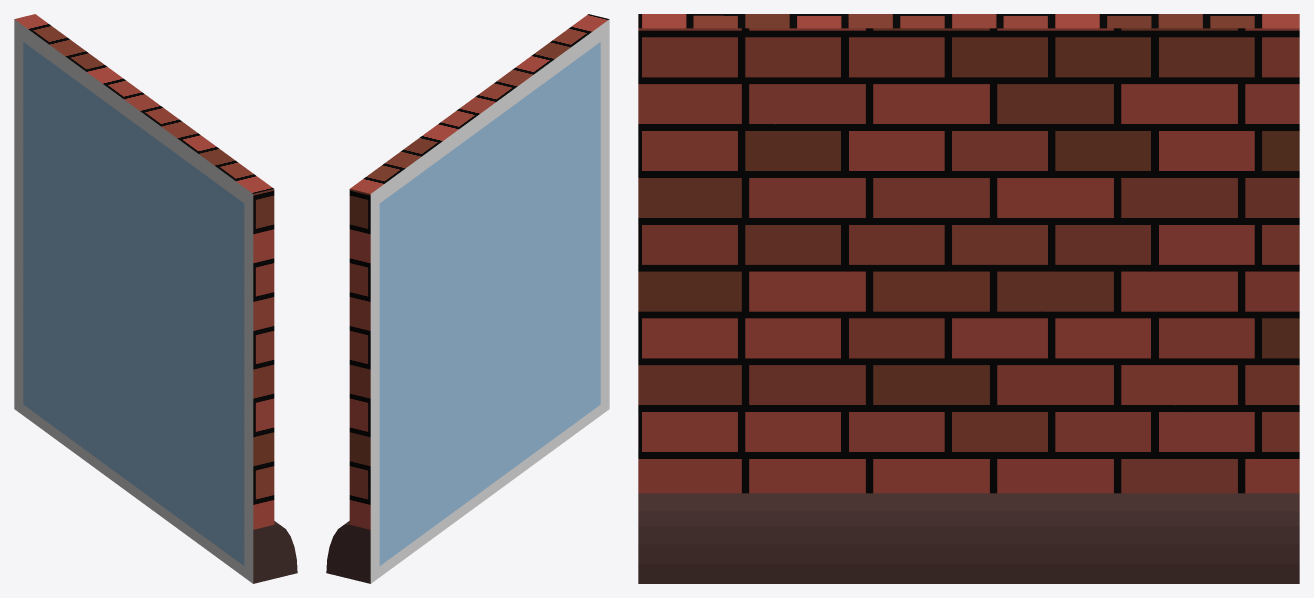
The model's file is Wall B.fbx.
3 renders of one model, left to right at view 1: azimuth 30°, elevation 25°; view 2: azimuth 150°, elevation 25°; view 3: azimuth 270°, elevation 25°, orthographic. The views are drawn at different scales.
Parts seen in each view (by area): view 1: Wall B; view 2: Wall B; view 3: Wall B.
Part boxes in pixels (x1,y1,x2,y2): Wall B: [14, 14, 297, 583]; Wall B: [326, 14, 609, 583]; Wall B: [638, 14, 1299, 583].
Bounding box in the file's own units: 85.83 × 721 × 800.
